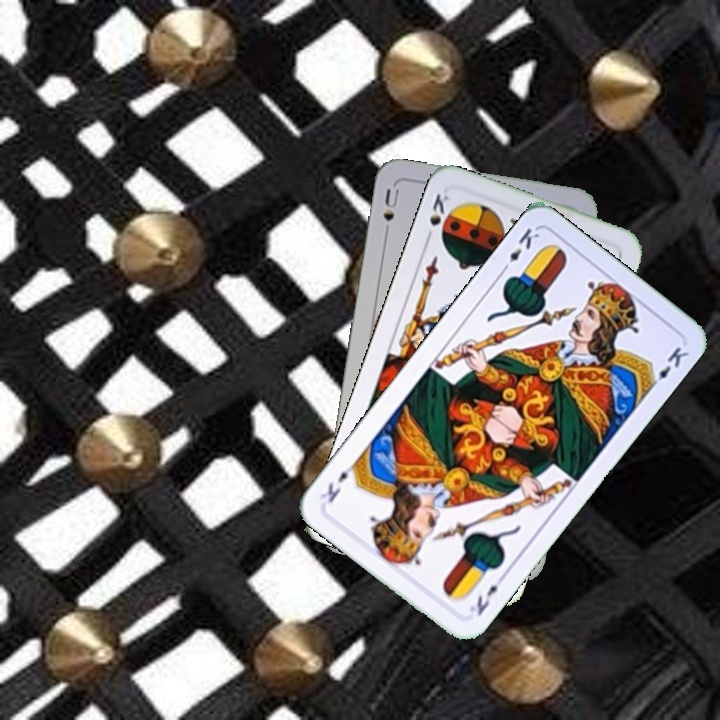EK: (496, 223, 542, 276), (465, 570, 508, 619)
SK: (421, 189, 455, 245)
SU: (379, 184, 402, 241)
